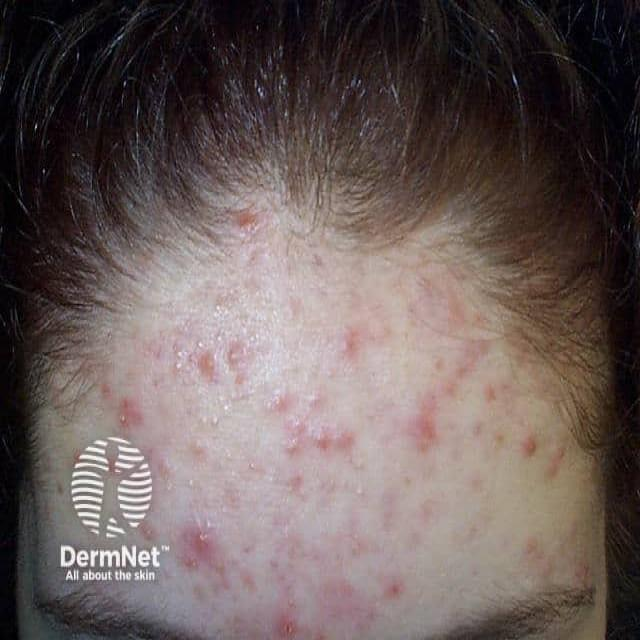Acne: (138, 326, 569, 482), (179, 513, 415, 640)
